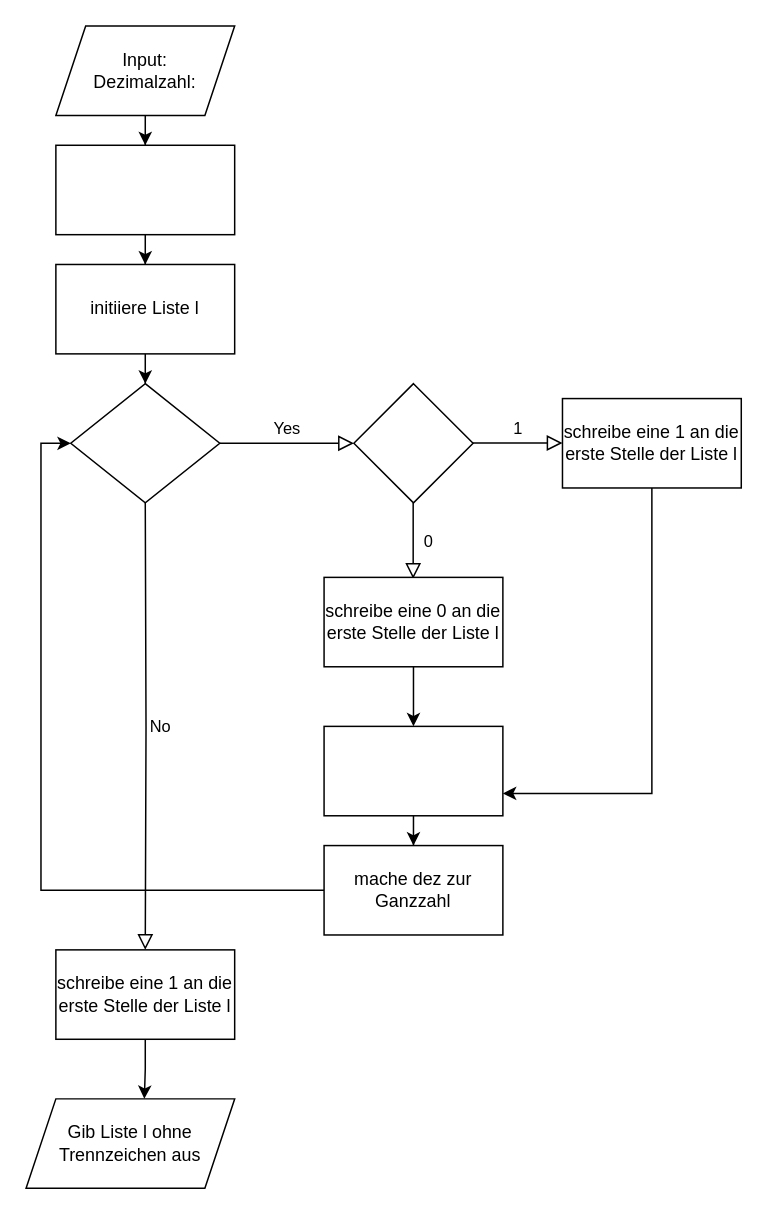
Image size: 767x1214. Some labels were removed from this diagram. Here are the shapes that lost their labels. From the top down, the box of each, then its label:
(54, 144, 235, 235): schreibe Dezimalzahl auf Variable dez
(69, 382, 220, 503): ist dez ungleich 1
(352, 382, 473, 503): dez modulo 2
(323, 725, 503, 816): dez/2
